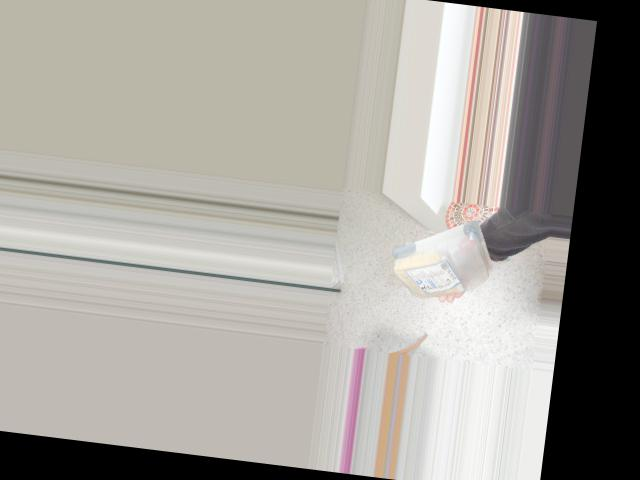cheese: (382, 212, 513, 309)
